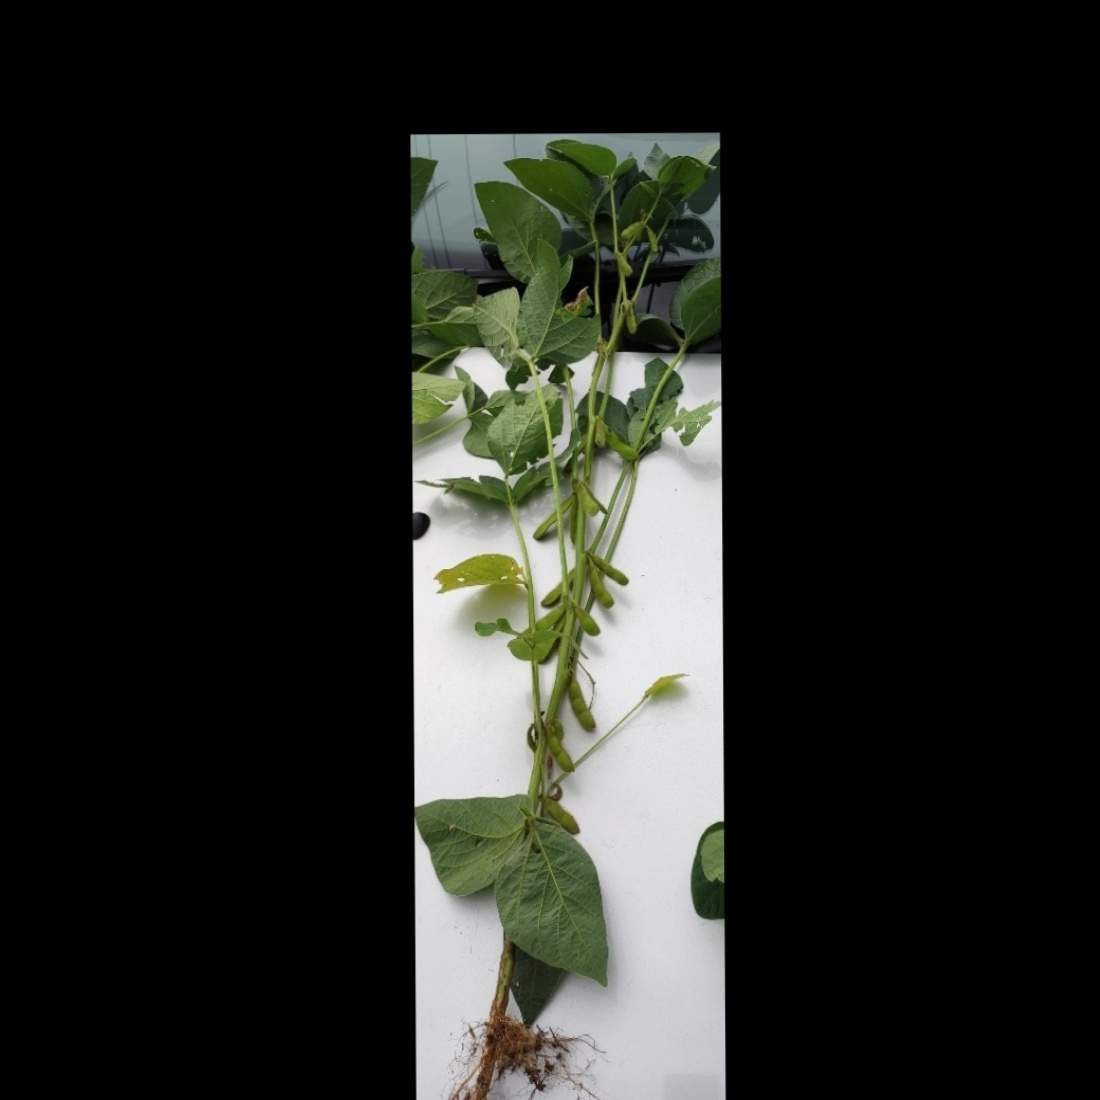pod: (529, 493, 576, 543), (566, 674, 600, 742), (540, 791, 591, 836), (589, 552, 634, 586), (547, 729, 577, 777), (593, 563, 623, 610), (604, 426, 637, 461), (570, 482, 599, 516), (622, 300, 640, 339), (618, 219, 647, 240), (614, 250, 636, 278), (645, 225, 662, 258), (593, 410, 606, 449)
soy: (419, 153, 712, 1100)
